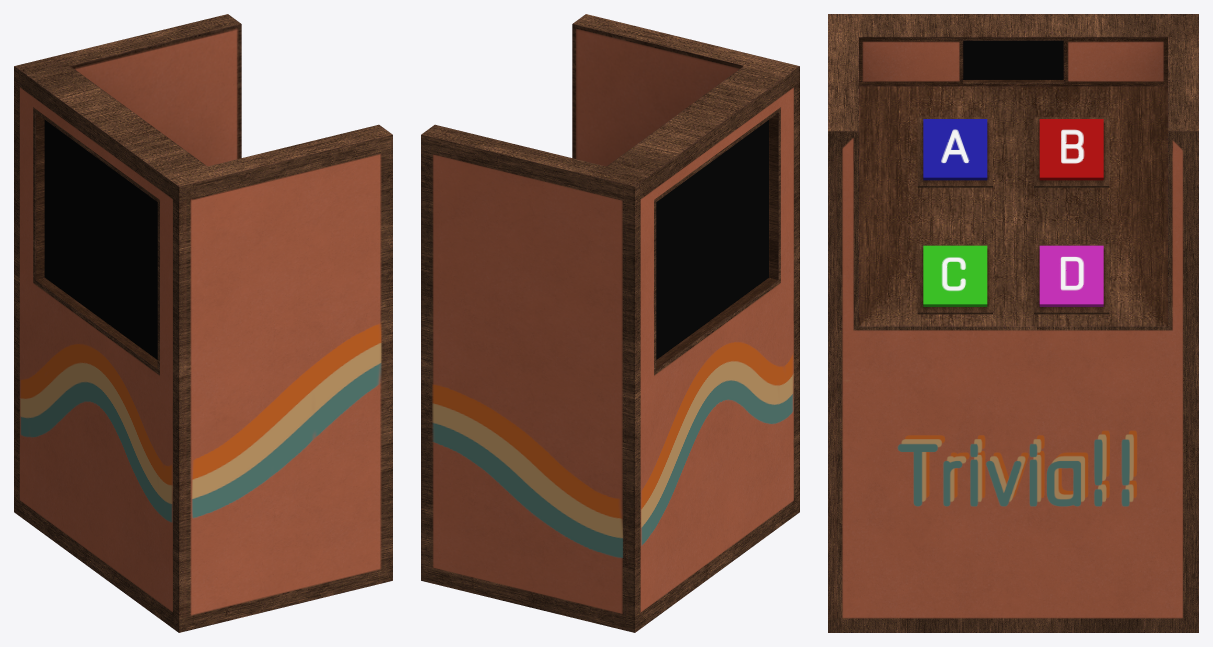
Rendered from SketchFab2.fbx.
3 renders of one model, left to right at view 1: azimuth 30°, elevation 25°; view 2: azimuth 150°, elevation 25°; view 3: azimuth 270°, elevation 25°, orthographic. The views are drawn at different scales.
Visible parts, largest first — view 1: TriviaBase; view 2: TriviaBase; view 3: TriviaBase, TriviaButton1, TriviaButton2, TriviaButton3, TriviaButton4, TriviaButtonTrim, TriviaButtonTrim2, TriviaButtonTrim3, TriviaButtonTrim4.
Boxes of the visible parts, x1,y1,x2,y2 form: TriviaBase: [14, 14, 392, 632]; TriviaBase: [421, 14, 799, 632]; TriviaBase: [828, 14, 1198, 632]; TriviaButton1: [1039, 119, 1103, 180]; TriviaButton2: [923, 119, 987, 180]; TriviaButton3: [923, 245, 987, 306]; TriviaButton4: [1039, 245, 1103, 306]; TriviaButtonTrim: [1034, 117, 1109, 187]; TriviaButtonTrim2: [917, 117, 992, 187]; TriviaButtonTrim3: [917, 244, 992, 314]; TriviaButtonTrim4: [1034, 244, 1109, 314].
Size of the model in its own units: 4.77 by 9.51 by 6.37.
5 materials, 5 textured.
